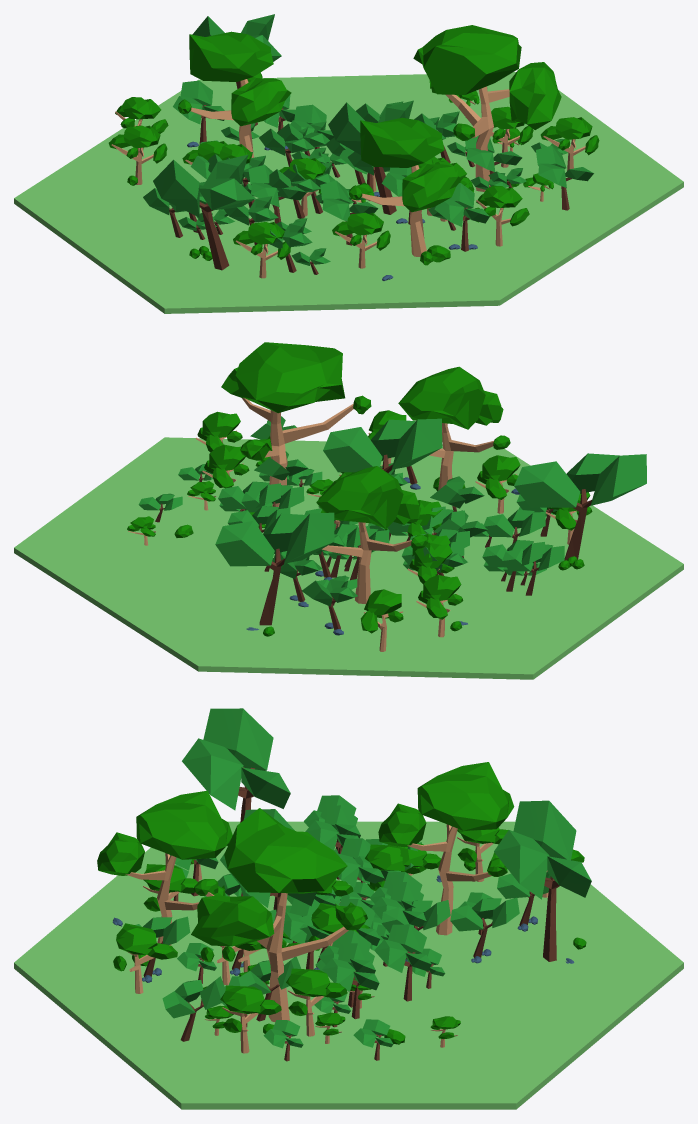
File: Hexagone ressource bois.fbx
3 views of the same model, one above another, from view 1: azimuth 30°, elevation 25°; view 2: azimuth 150°, elevation 25°; view 3: azimuth 270°, elevation 25° (orthographic). The views are drawn at different scales.
Parts seen in each view (by area): view 1: Cylindre.002, Icokugel.001, Icokugel.008, Icokugel, Cube.047, Cube.026, Cube.018, Icokugel.013, Icokugel.021, Icokugel.027, Icokugel.010, Icokugel.023 (+22 smaller); view 2: Cylindre.002, Icokugel.001, Icokugel, Cube.047, Icokugel.008, Cube.010, Cube.026, Icokugel.013, Icokugel.029, Icokugel.021, Cube.049, Icokugel.003 (+16 smaller); view 3: Cylindre.002, Icokugel.001, Icokugel, Icokugel.008, Cube.047, Cube.010, Cube.019, Cube.027, Icokugel.023, Icokugel.003, Icokugel.027, Cube.034 (+21 smaller).
Part boxes in pixels (x1=…): Cylindre.002: x1=14, y1=72, x2=683, y2=313; Icokugel.001: x1=413, y1=25, x2=561, y2=191; Icokugel.008: x1=349, y1=117, x2=462, y2=256; Icokugel: x1=178, y1=31, x2=291, y2=157; Cube.047: x1=153, y1=154, x2=255, y2=270; Cube.026: x1=328, y1=100, x2=413, y2=214; Cube.018: x1=434, y1=183, x2=489, y2=251; Icokugel.013: x1=108, y1=125, x2=167, y2=184; Icokugel.021: x1=332, y1=212, x2=390, y2=268; Icokugel.027: x1=540, y1=117, x2=599, y2=170; Icokugel.010: x1=233, y1=222, x2=290, y2=278; Icokugel.023: x1=476, y1=185, x2=529, y2=246; Cylindre.002: x1=14, y1=437, x2=683, y2=679; Icokugel.001: x1=221, y1=342, x2=371, y2=506; Icokugel: x1=316, y1=466, x2=428, y2=604; Cube.047: x1=514, y1=453, x2=646, y2=560; Icokugel.008: x1=398, y1=366, x2=510, y2=490; Cube.010: x1=215, y1=512, x2=334, y2=625; Cube.026: x1=323, y1=418, x2=442, y2=523; Icokugel.013: x1=416, y1=575, x2=463, y2=637; Icokugel.029: x1=360, y1=589, x2=403, y2=651; Icokugel.021: x1=475, y1=455, x2=520, y2=513; Cube.049: x1=483, y1=509, x2=545, y2=544; Icokugel.003: x1=202, y1=444, x2=249, y2=488; Cylindre.002: x1=14, y1=821, x2=683, y2=1109; Icokugel.001: x1=191, y1=808, x2=367, y2=1021; Icokugel: x1=378, y1=762, x2=514, y2=935; Icokugel.008: x1=97, y1=790, x2=232, y2=945; Cube.047: x1=182, y1=708, x2=290, y2=822; Cube.010: x1=494, y1=800, x2=591, y2=961; Cube.019: x1=374, y1=924, x2=431, y2=1001; Cube.027: x1=450, y1=897, x2=519, y2=963; Icokugel.023: x1=113, y1=923, x2=177, y2=993; Icokugel.003: x1=286, y1=968, x2=347, y2=1036; Icokugel.027: x1=220, y1=985, x2=281, y2=1053; Cube.034: x1=322, y1=943, x2=379, y2=1019.
Bounding box in the file's own units: 2001 × 616 × 2011.
